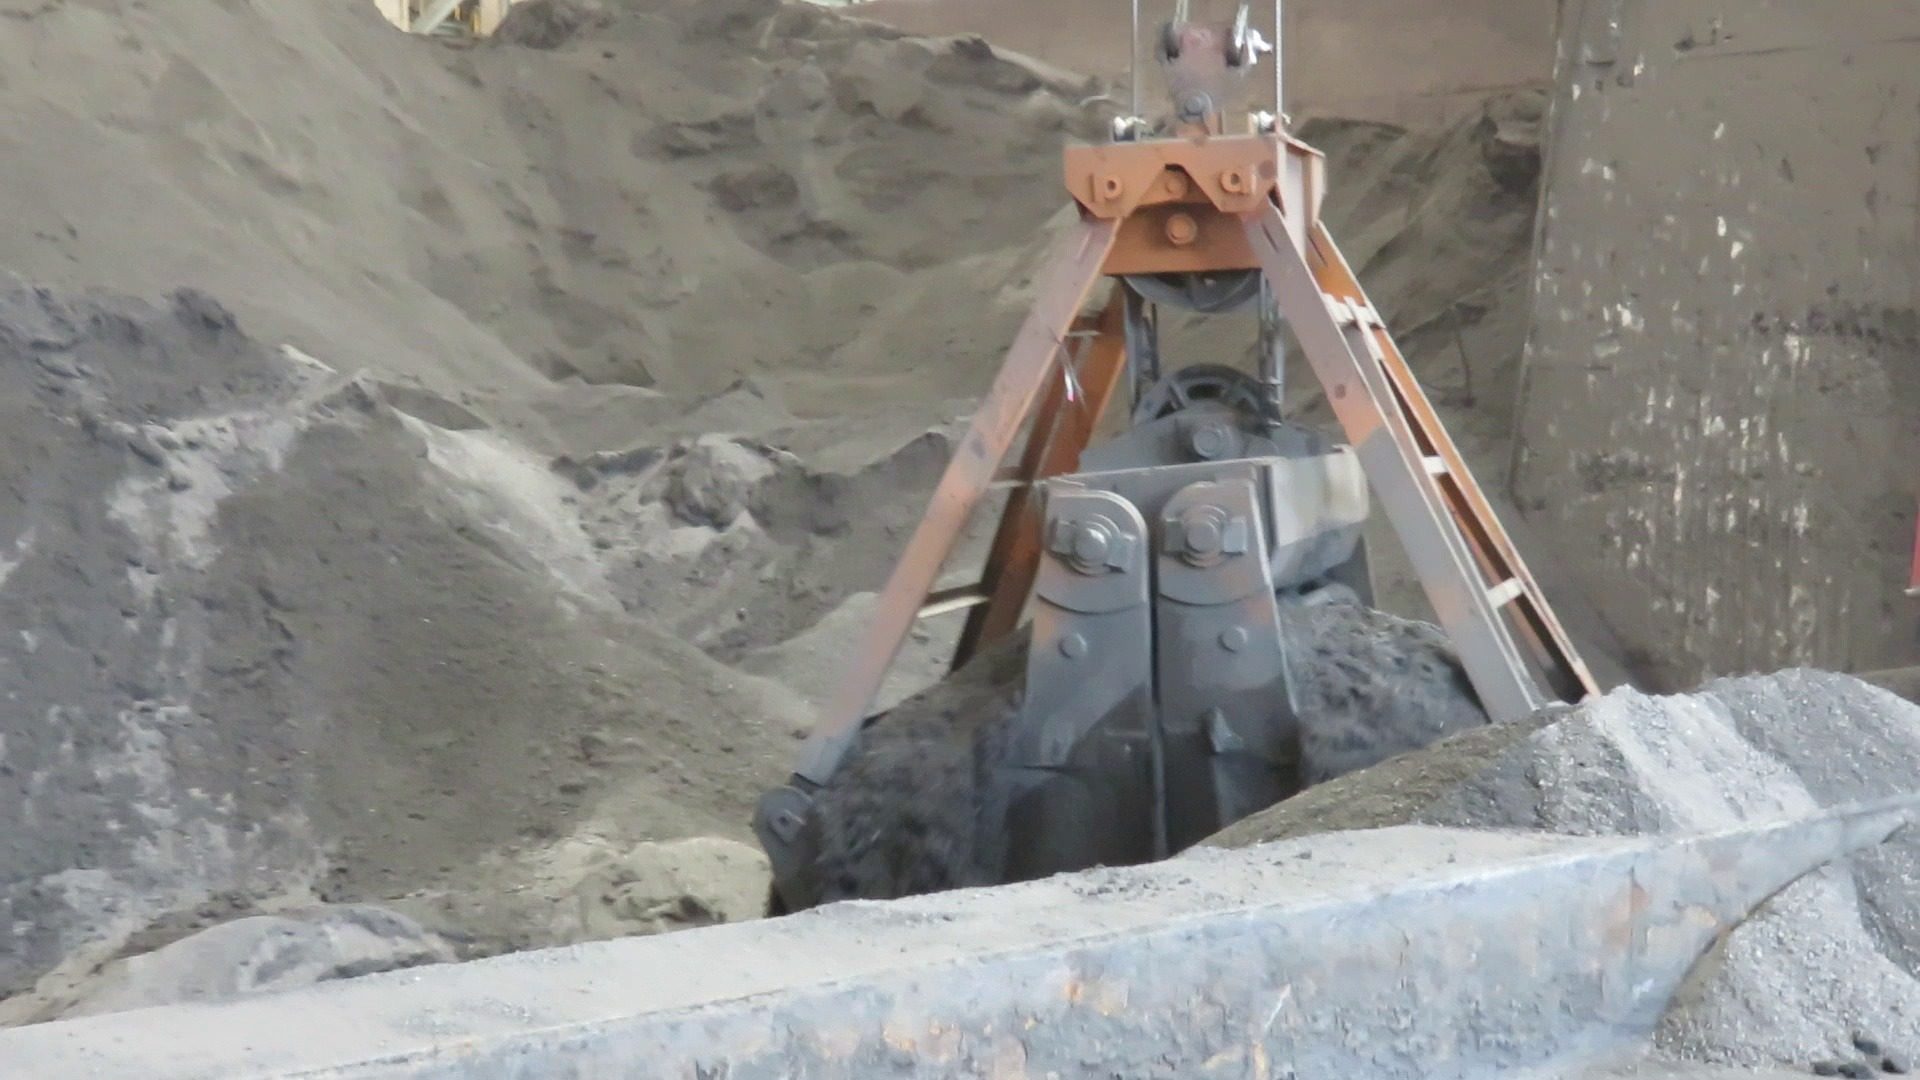grab: (742, 76, 1625, 880)
